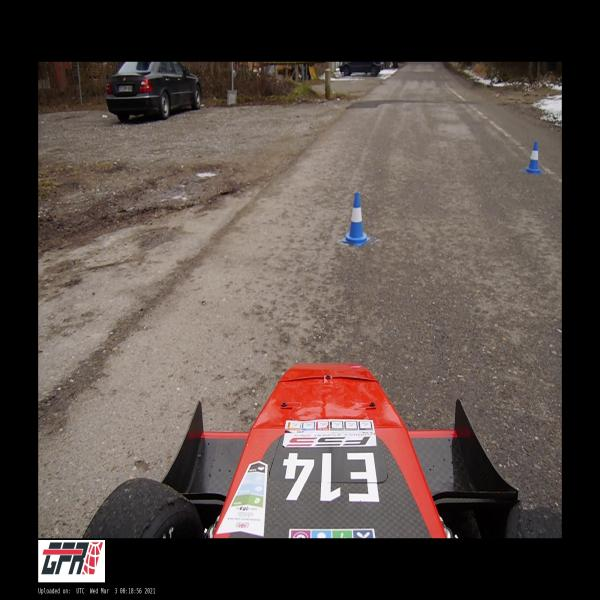blue_cone: (342, 193, 370, 246), (525, 141, 543, 174)
